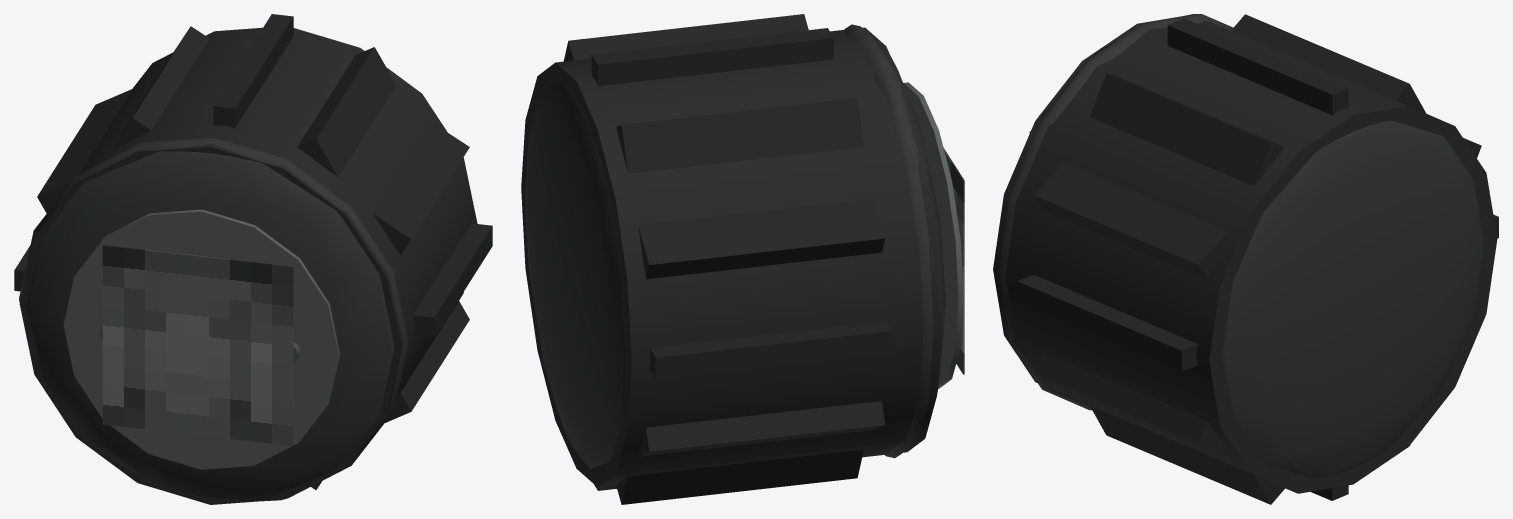
The model's file is CMU3DVanWheelCloud.glb.
3 renders of one model, left to right at view 1: azimuth 30°, elevation 25°; view 2: azimuth 150°, elevation 25°; view 3: azimuth 270°, elevation 25°, orthographic. The views are drawn at different scales.
Parts seen in each view (by area): view 1: rounded front tire shoulder, rubber tire barrel, original central wheel hub pixels, recessed front metal rim, physical transverse rubber tread 2, physical transverse rubber tread 1, physical transverse rubber tread 3, physical transverse rubber tread 0, physical transverse rubber tread 4, physical transverse rubber tread 5, physical transverse rubber tread 11; view 2: rubber tire barrel, back tire shoulder, physical transverse rubber tread 5, physical transverse rubber tread 4, physical transverse rubber tread 6, physical transverse rubber tread 3, rounded front tire shoulder, physical transverse rubber tread 7, physical transverse rubber tread 8, recessed front metal rim, physical transverse rubber tread 2, original central wheel hub pixels; view 3: rubber tire barrel, back tire shoulder, physical transverse rubber tread 1, physical transverse rubber tread 2, physical transverse rubber tread 0, physical transverse rubber tread 3, rounded front tire shoulder, physical transverse rubber tread 11, physical transverse rubber tread 10, physical transverse rubber tread 4.
Boxes of the visible parts, bbox=[...] form: rounded front tire shoulder: bbox=[19, 138, 408, 501]; rubber tire barrel: bbox=[19, 27, 477, 504]; original central wheel hub pixels: bbox=[102, 245, 293, 445]; recessed front metal rim: bbox=[63, 209, 339, 469]; physical transverse rubber tread 2: bbox=[297, 47, 396, 177]; physical transverse rubber tread 1: bbox=[373, 122, 469, 255]; physical transverse rubber tread 3: bbox=[213, 14, 293, 128]; physical transverse rubber tread 0: bbox=[413, 223, 492, 338]; physical transverse rubber tread 4: bbox=[110, 26, 209, 151]; physical transverse rubber tread 5: bbox=[37, 88, 133, 213]; physical transverse rubber tread 11: bbox=[385, 301, 469, 422]; rubber tire barrel: bbox=[521, 27, 941, 487]; back tire shoulder: bbox=[524, 81, 626, 468]; physical transverse rubber tread 5: bbox=[638, 198, 884, 279]; physical transverse rubber tread 4: bbox=[616, 98, 863, 173]; physical transverse rubber tread 6: bbox=[649, 321, 891, 379]; physical transverse rubber tread 3: bbox=[591, 28, 833, 86]; rounded front tire shoulder: bbox=[844, 24, 945, 458]; physical transverse rubber tread 7: bbox=[638, 401, 884, 456]; physical transverse rubber tread 8: bbox=[616, 449, 863, 504]; recessed front metal rim: bbox=[903, 82, 963, 388]; physical transverse rubber tread 2: bbox=[563, 14, 808, 61]; original central wheel hub pixels: bbox=[943, 147, 964, 374]; rubber tire barrel: bbox=[993, 16, 1497, 493]; back tire shoulder: bbox=[1222, 120, 1484, 478]; physical transverse rubber tread 1: bbox=[1034, 162, 1227, 279]; physical transverse rubber tread 2: bbox=[1089, 73, 1284, 186]; physical transverse rubber tread 0: bbox=[1017, 274, 1197, 371]; physical transverse rubber tread 3: bbox=[1167, 18, 1348, 114]; rounded front tire shoulder: bbox=[998, 14, 1233, 410]; physical transverse rubber tread 11: bbox=[1034, 352, 1227, 452]; physical transverse rubber tread 10: bbox=[1090, 405, 1284, 504]; physical transverse rubber tread 4: bbox=[1231, 14, 1426, 113].
Size of the model in its own units: 0.6951 by 0.616 by 0.6951.
Materials: 7 (1 with a texture image).
